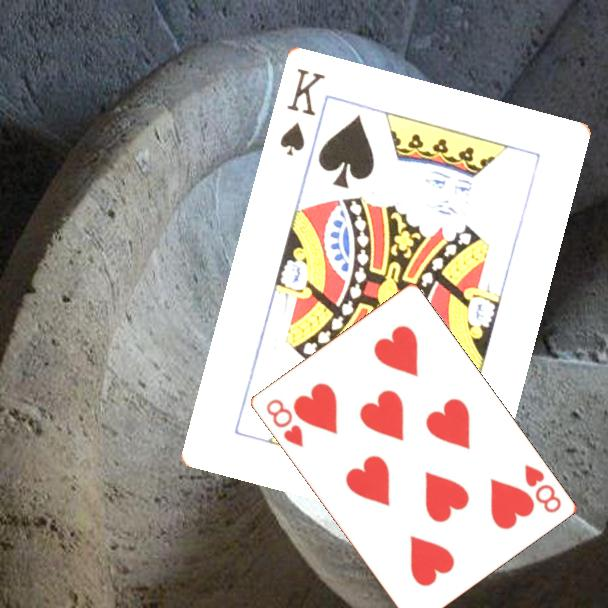h08: (262, 395, 306, 450), (520, 461, 564, 516)
s13: (276, 64, 328, 159)
